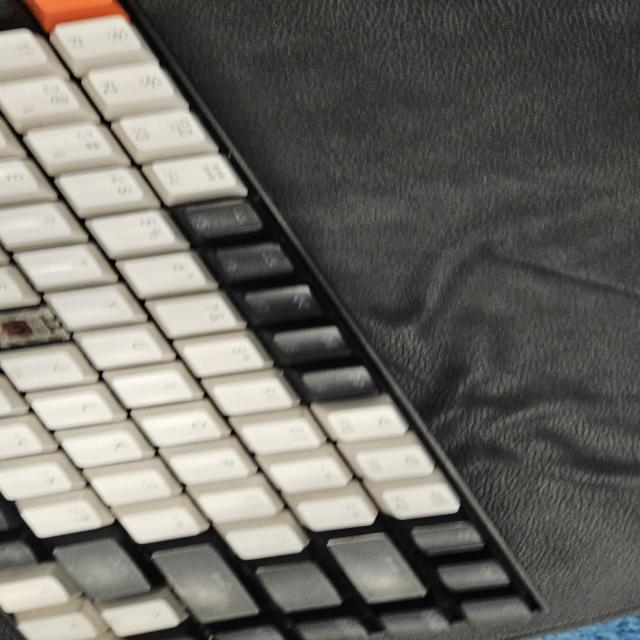C: (0, 317, 49, 345)
